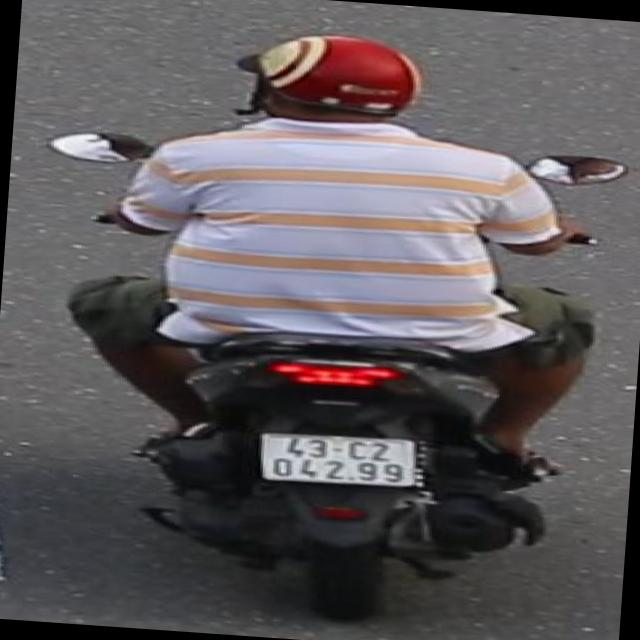LP: (253, 426, 425, 495)
helmet: (222, 23, 433, 138)
